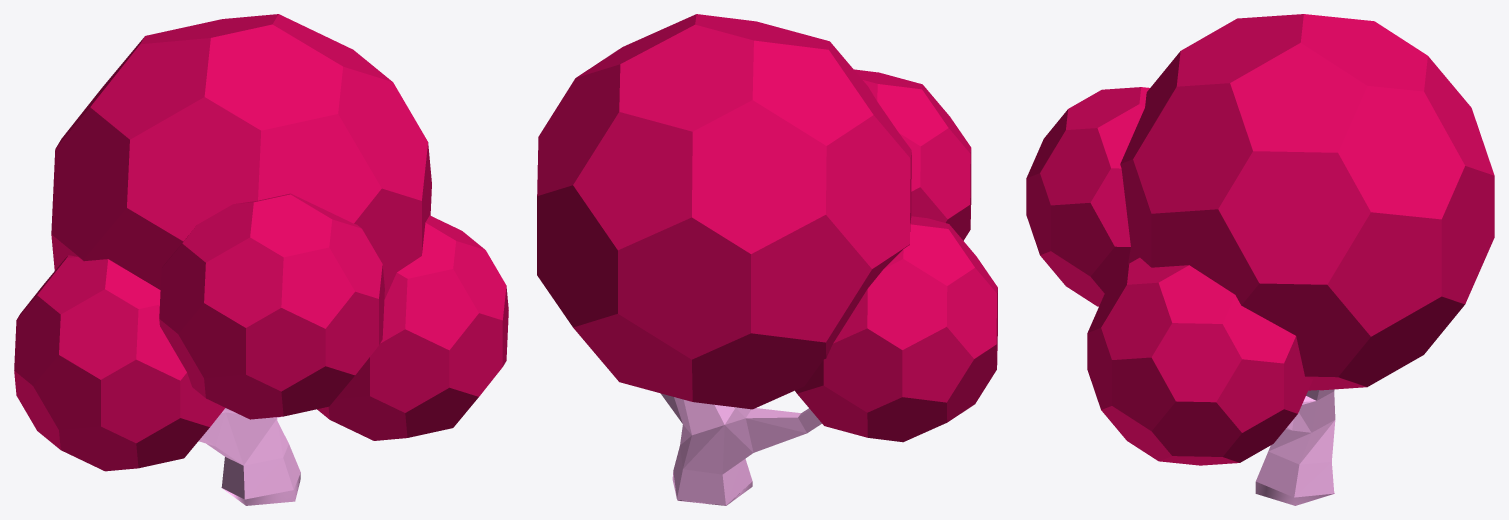
The model's file is busch.FBX.
The picture shows the model from 3 angles, left to right: view 1: azimuth 30°, elevation 25°; view 2: azimuth 150°, elevation 25°; view 3: azimuth 270°, elevation 25°; orthographic projection. The views are drawn at different scales.
Parts seen in each view (by area): view 1: Hedra002, Hedra004, Hedra003, Hedra005, Cylinder001; view 2: Hedra002, Hedra003, Cylinder001, Hedra004; view 3: Hedra002, Hedra005, Hedra004, Cylinder001.
Part boxes in pixels (x1,y1,x2,y2): Hedra002: (51,14,431,299); Hedra004: (159,193,384,419); Hedra003: (14,255,225,471); Hedra005: (317,215,508,440); Cylinder001: (199,408,300,505); Hedra002: (537,14,911,409); Hedra003: (795,216,997,442); Cylinder001: (660,393,821,505); Hedra004: (854,69,971,240); Hedra002: (1120,14,1494,390); Hedra005: (1087,257,1312,465); Hedra004: (1026,87,1149,306); Cylinder001: (1255,389,1335,505).
Bounding box in the file's own units: 21.3 × 21.14 × 19.86.
